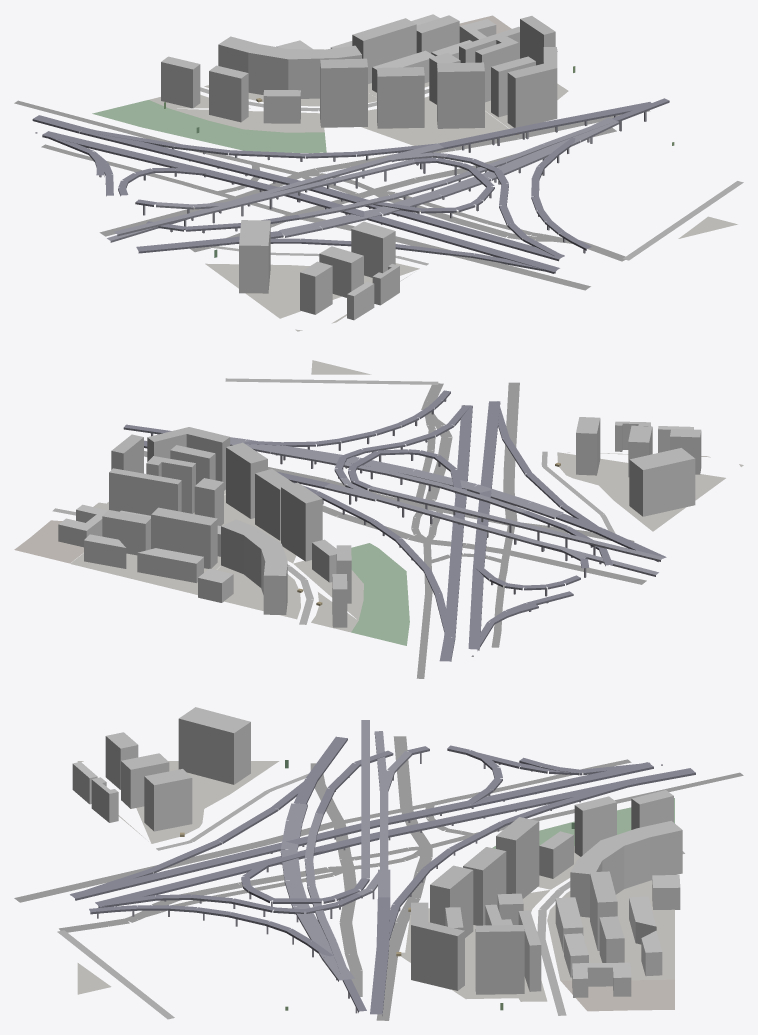
3 renders of one model, top to bottom at view 1: azimuth 30°, elevation 25°; view 2: azimuth 150°, elevation 25°; view 3: azimuth 270°, elevation 25°, orthographic. The views are drawn at different scales.
Size of the model in its own units: 579 by 60.55 by 611.
